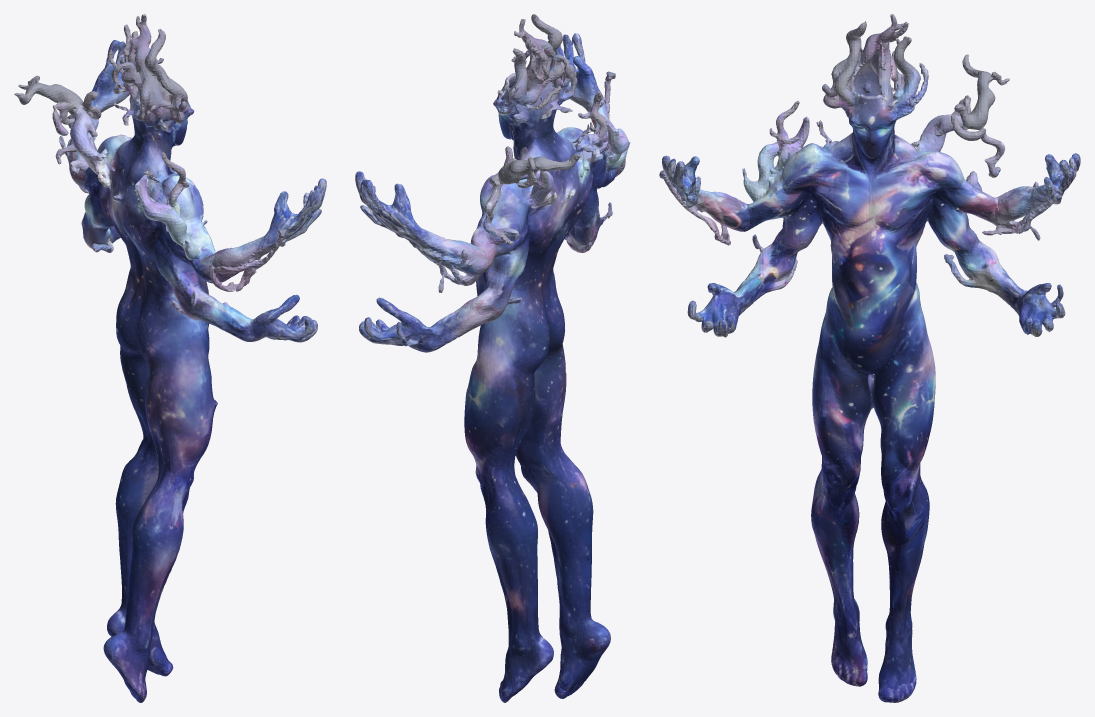
The model's file is floor10-galaxy-humanoid.glb.
3 renders of one model, left to right at view 1: azimuth 30°, elevation 25°; view 2: azimuth 150°, elevation 25°; view 3: azimuth 270°, elevation 25°, orthographic. The views are drawn at different scales.
Visible parts, largest first — view 1: tripo_node_3236385c-1ab0-4f3a-a222-dfda79b47499; view 2: tripo_node_3236385c-1ab0-4f3a-a222-dfda79b47499; view 3: tripo_node_3236385c-1ab0-4f3a-a222-dfda79b47499.
Part boxes in pixels (x1,y1,x2,y2): tripo_node_3236385c-1ab0-4f3a-a222-dfda79b47499: (14,14,326,702); tripo_node_3236385c-1ab0-4f3a-a222-dfda79b47499: (355,14,630,702); tripo_node_3236385c-1ab0-4f3a-a222-dfda79b47499: (659,14,1080,702).
Size of the model in its own units: 0.2764 by 1 by 0.5594.
1 material, 1 textured.
